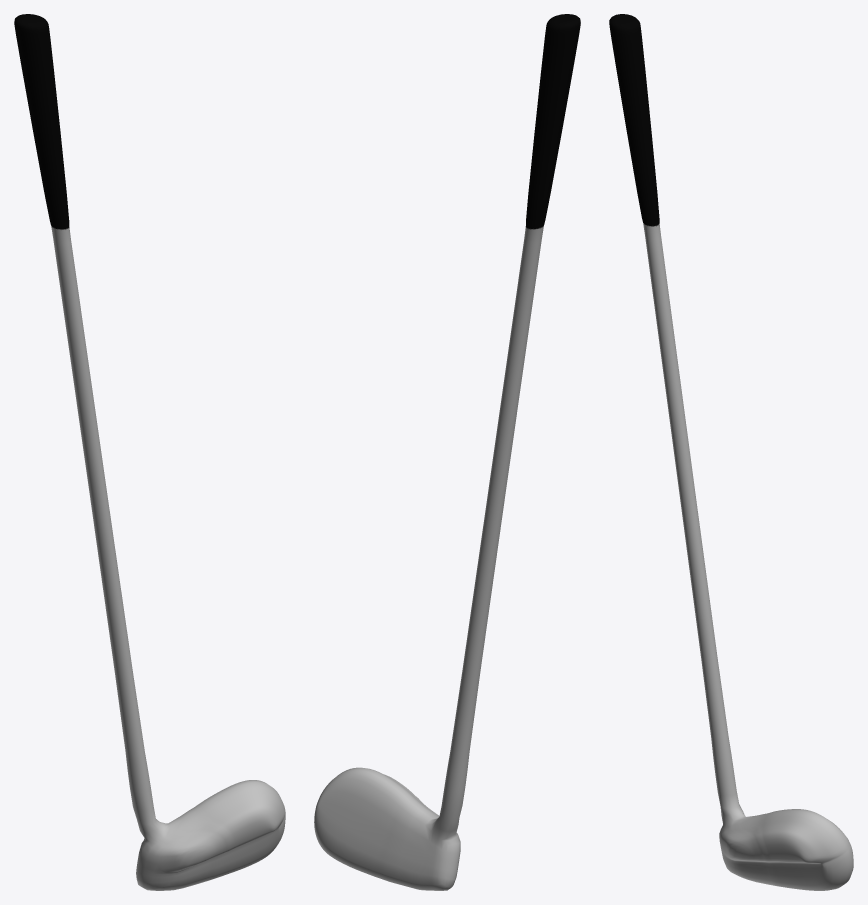
The model's file is Golf_Wedge.glb.
The picture shows the model from 3 angles, left to right: view 1: azimuth 30°, elevation 25°; view 2: azimuth 150°, elevation 25°; view 3: azimuth 330°, elevation 25°; orthographic projection. The views are drawn at different scales.
Visible parts, largest first — view 1: Circle; view 2: Circle; view 3: Circle.
Boxes of the visible parts, box(x1,y1,x2,y2) form: Circle: box(14, 14, 285, 890); Circle: box(314, 14, 580, 890); Circle: box(609, 14, 853, 890).
Bounding box in the file's own units: 0.2993 × 0.98 × 0.0659.
Materials: 1 (1 with a texture image).
